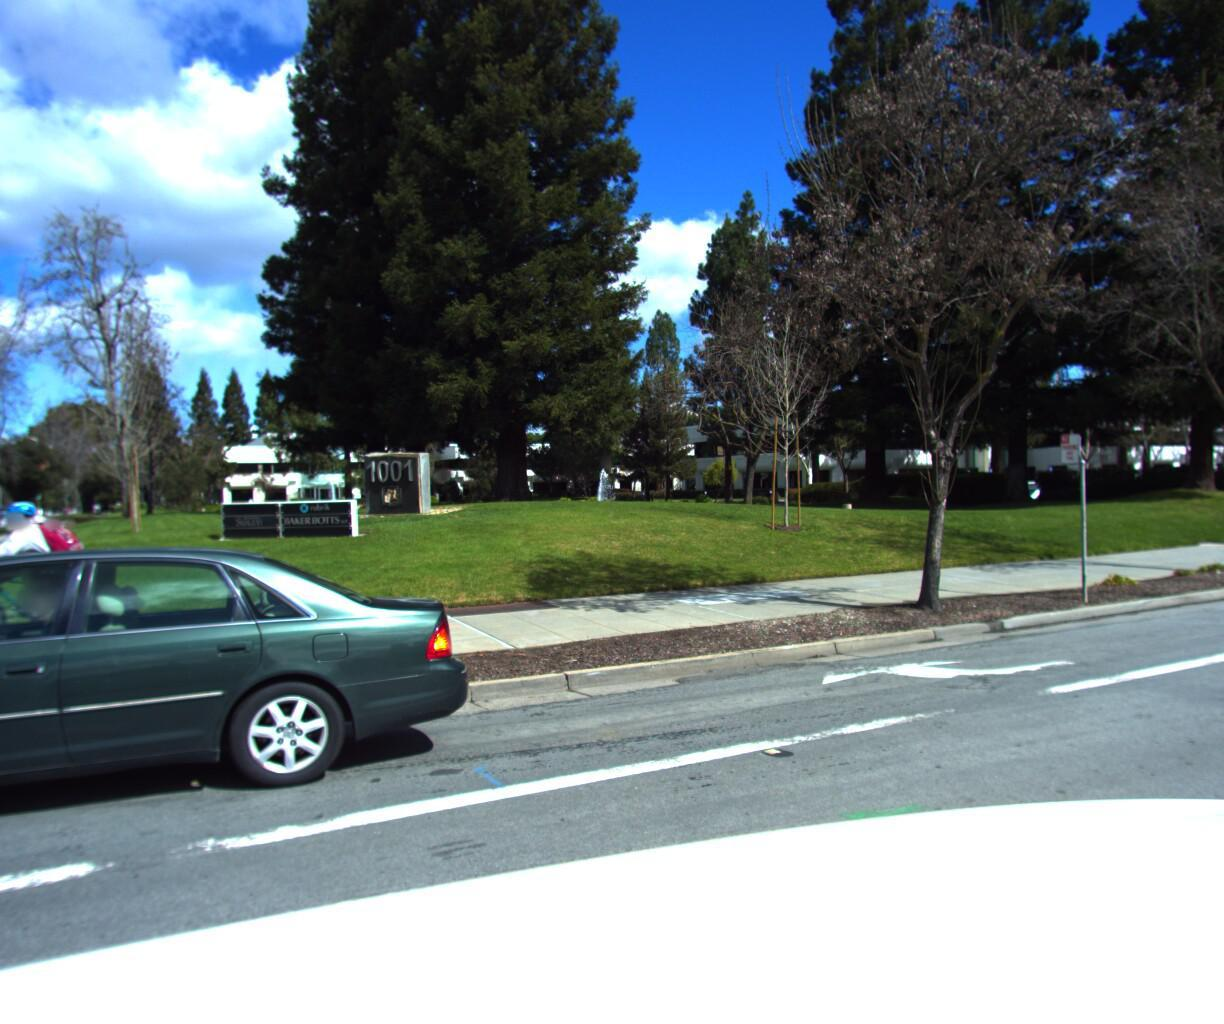bicycle: (0, 478, 111, 671)
car: (0, 532, 501, 971)
